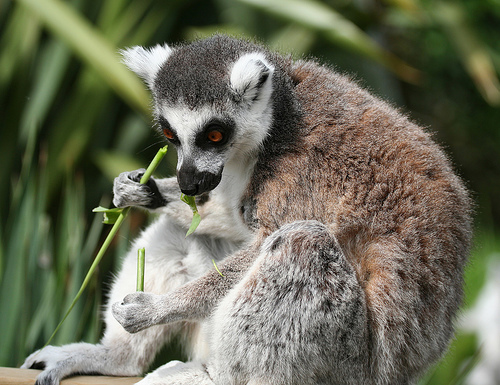cat: (22, 32, 470, 384)
